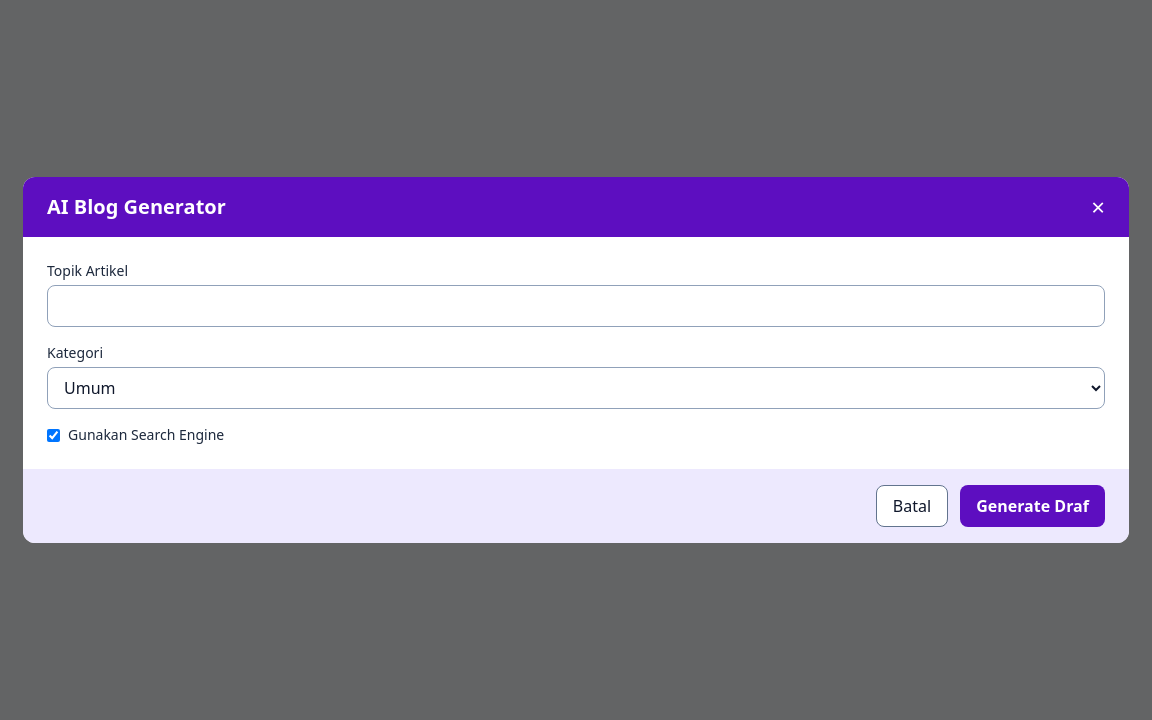
Scenario: AiPostGeneratorModal › dapat menonaktifkan search engine dan menangani draf tanpa sumber
Type "Topik" into the field labelled "Topik Artikel" at (576, 306), box [47, 285, 1105, 327]
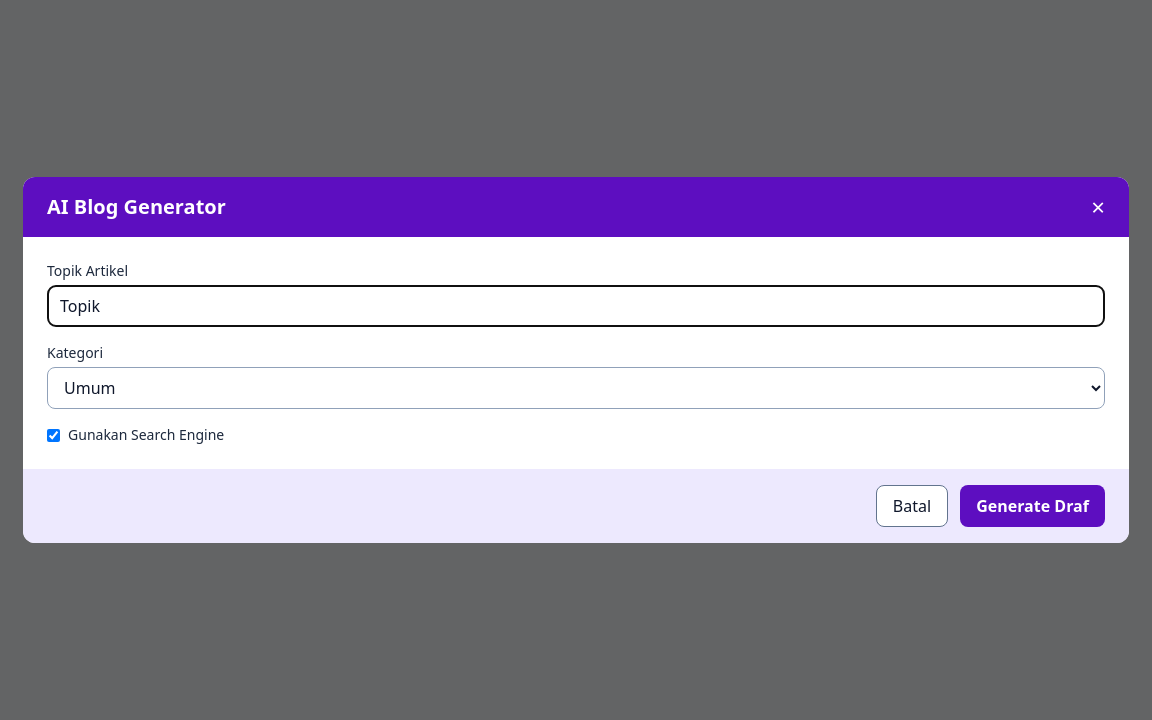
Click the checkbox labelled "Gunakan Search Engine" at (54, 435), box [47, 428, 60, 442]
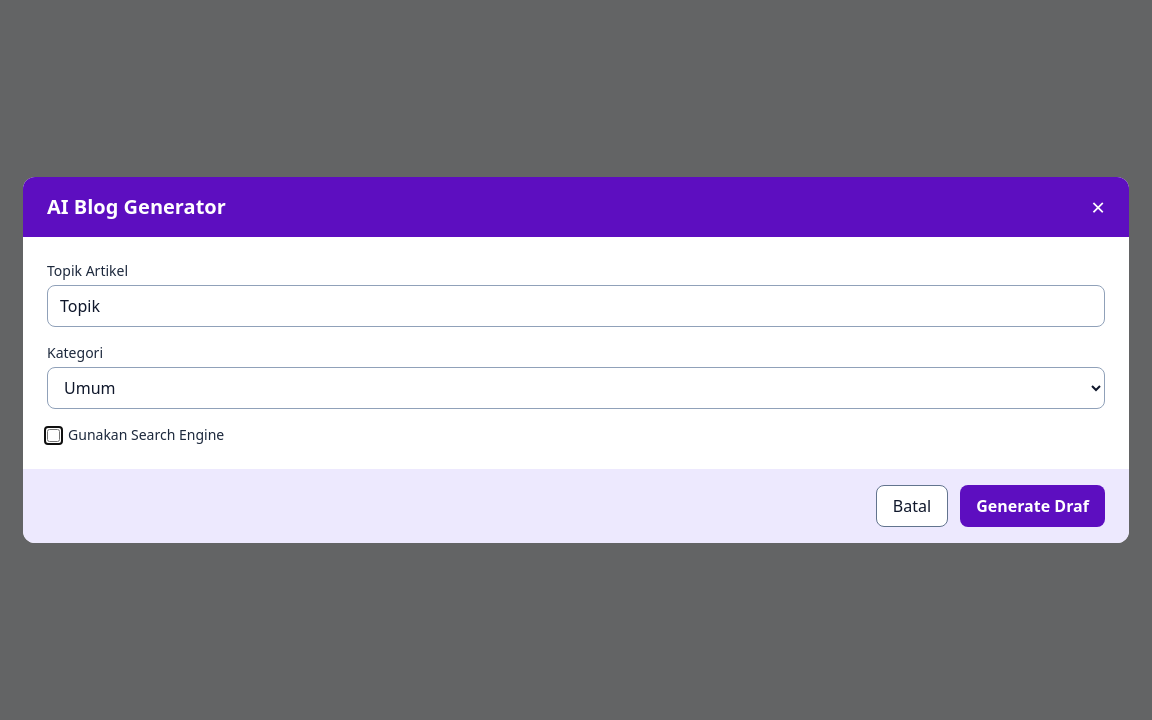
Check: the checkbox labelled "Gunakan Search Engine" is not checked, box [47, 428, 60, 442]
Click the button "Generate Draf" at (1032, 506), box [960, 485, 1105, 527]
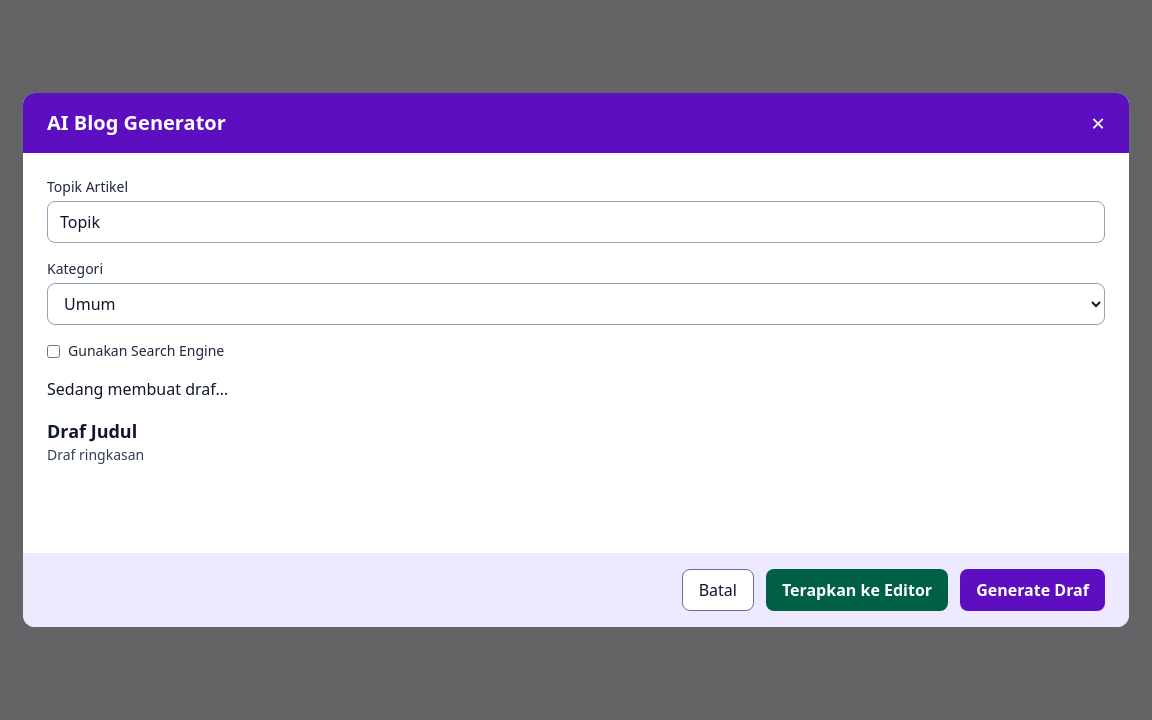
Check: the heading "Draf Judul" is shown, box [47, 419, 137, 443]
